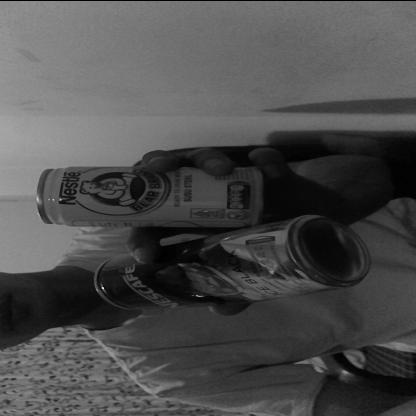alumunium_can: (97, 216, 371, 312), (32, 162, 269, 224)
